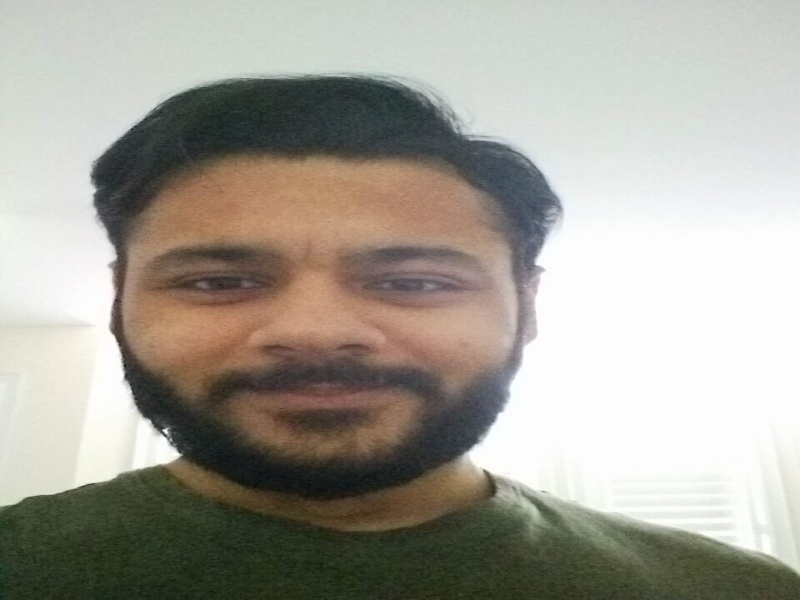smile: (119, 156, 517, 462)
